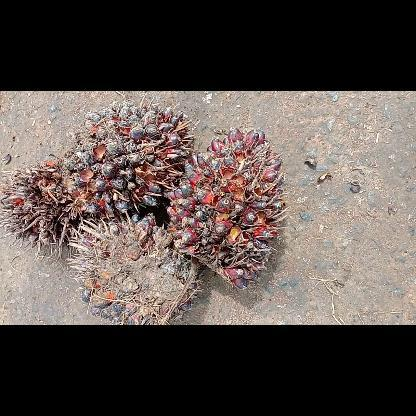TBS abnormal: (166, 127, 288, 288), (62, 96, 197, 218), (66, 212, 202, 324), (0, 159, 104, 259)
